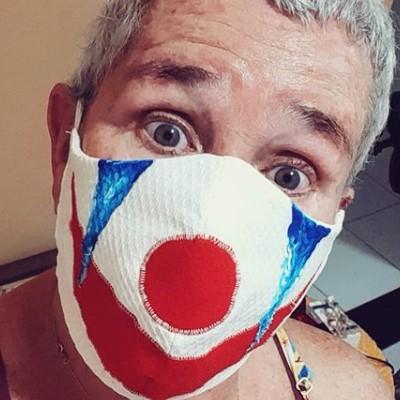face_with_mask: (50, 7, 390, 394)
